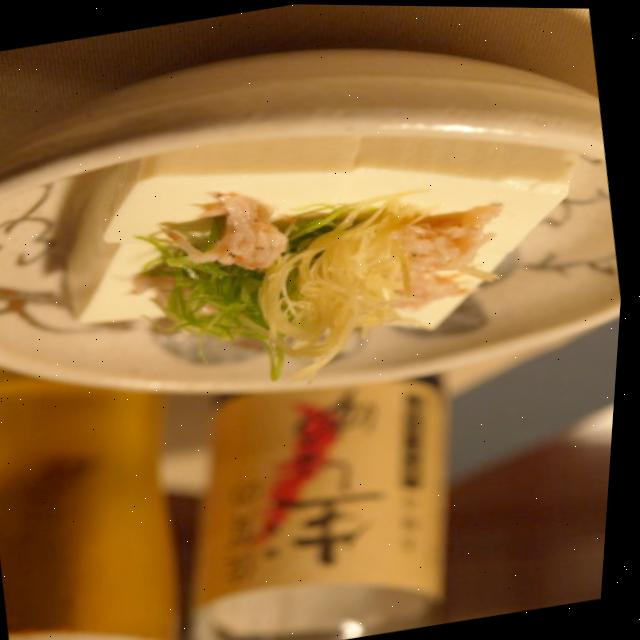豆腐料理: (38, 81, 608, 422)
